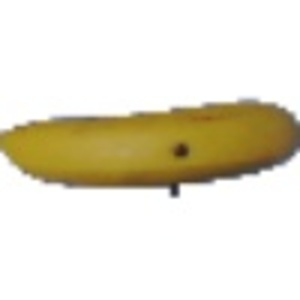banana: (1, 100, 297, 189)
